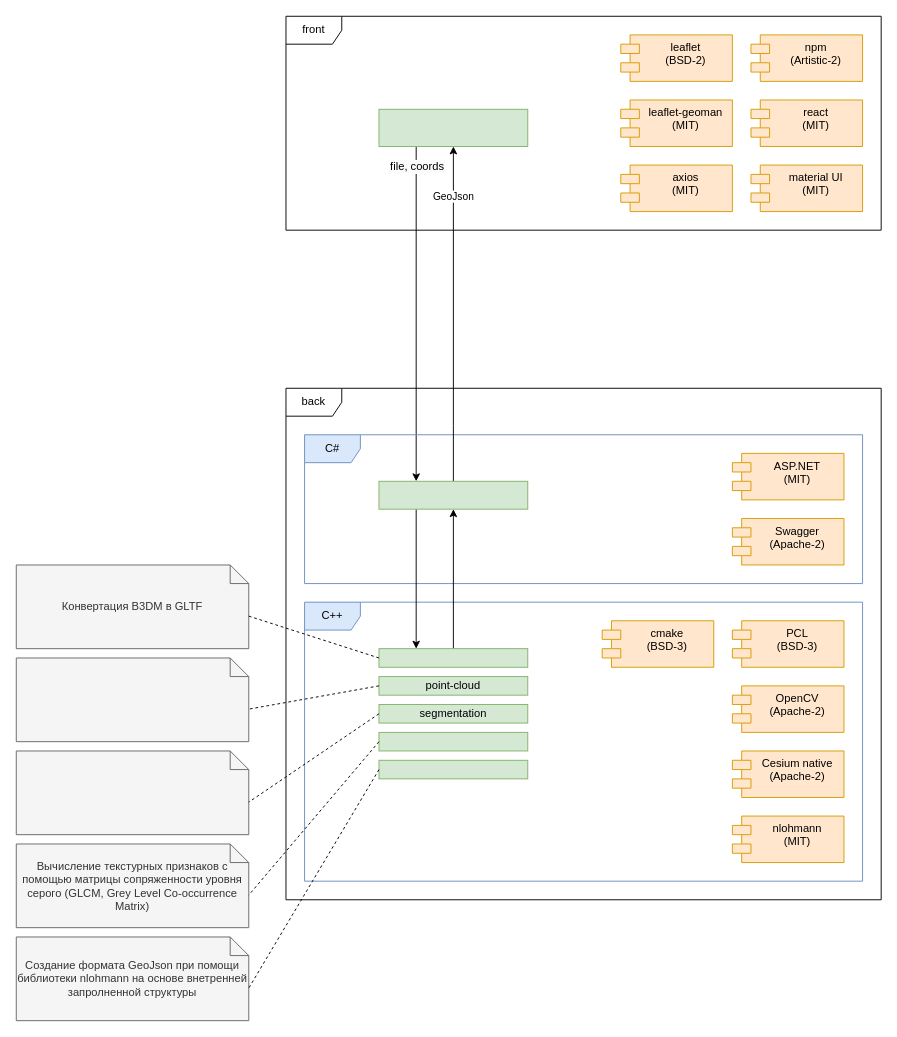
Image size: 897x1037. Some labels were removed from this diagram. Here are the shapes that lost their labels. From the top down, the centre of each, then its label:
At pixel 453 127: "Загрузка b3dm И координат".
At pixel 453 494: "POST generate/geo-json".
At pixel 453 657: "converter".
At pixel 132 699: "Парсинг и извлечение геометрических точек, чтобы создать облако точек".
At pixel 453 741: "classification".
At pixel 453 769: "generation".
At pixel 132 792: "Сегментация облака точек при помощи SACSegmentation из библиотеки PCL".
